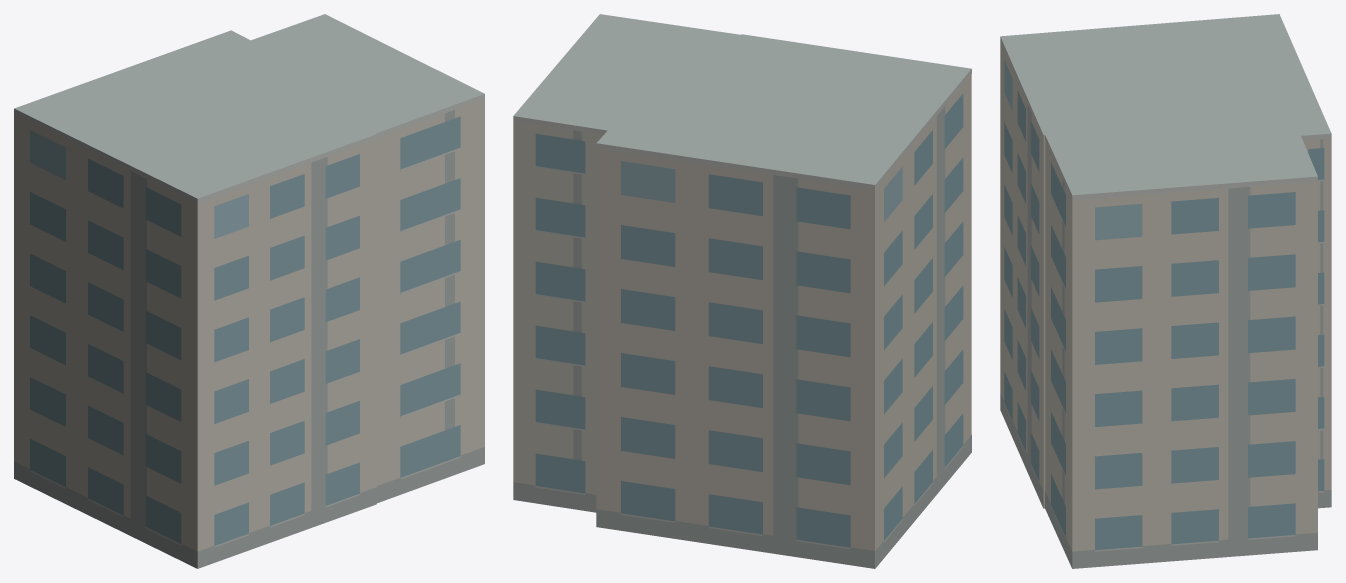
The model's file is survey-upis-32838649.glb.
The picture shows the model from 3 angles, left to right: view 1: azimuth 30°, elevation 25°; view 2: azimuth 150°, elevation 25°; view 3: azimuth 270°, elevation 25°; orthographic projection. The views are drawn at different scales.
Visible parts, largest first — view 1: survey-upis-32838649.tmp; view 2: survey-upis-32838649.tmp; view 3: survey-upis-32838649.tmp.
Part boxes in pixels (x1=…): survey-upis-32838649.tmp: x1=14, y1=14, x2=484, y2=568; survey-upis-32838649.tmp: x1=513, y1=14, x2=971, y2=568; survey-upis-32838649.tmp: x1=1000, y1=14, x2=1331, y2=568.
Bounding box in the file's own units: 18.63 × 17.89 × 14.39.
